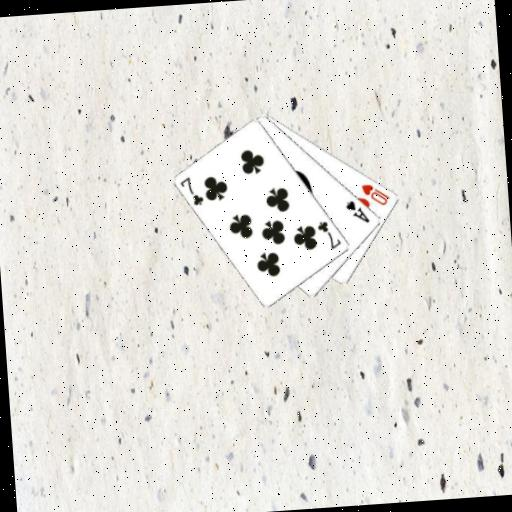10H: (358, 180, 392, 209)
7C: (177, 173, 206, 209), (314, 218, 343, 252)
AS: (343, 197, 372, 226)
